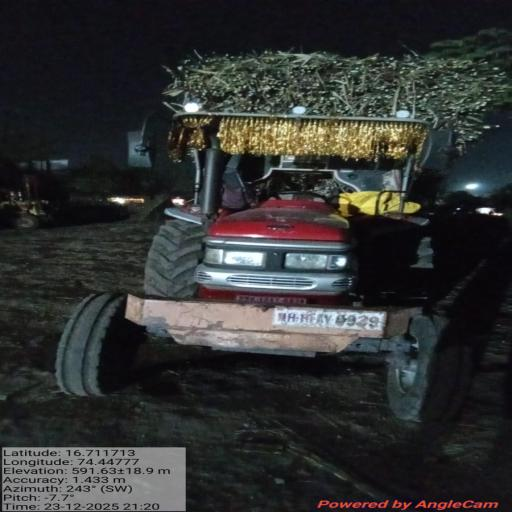number_plate: (273, 305, 399, 334)
